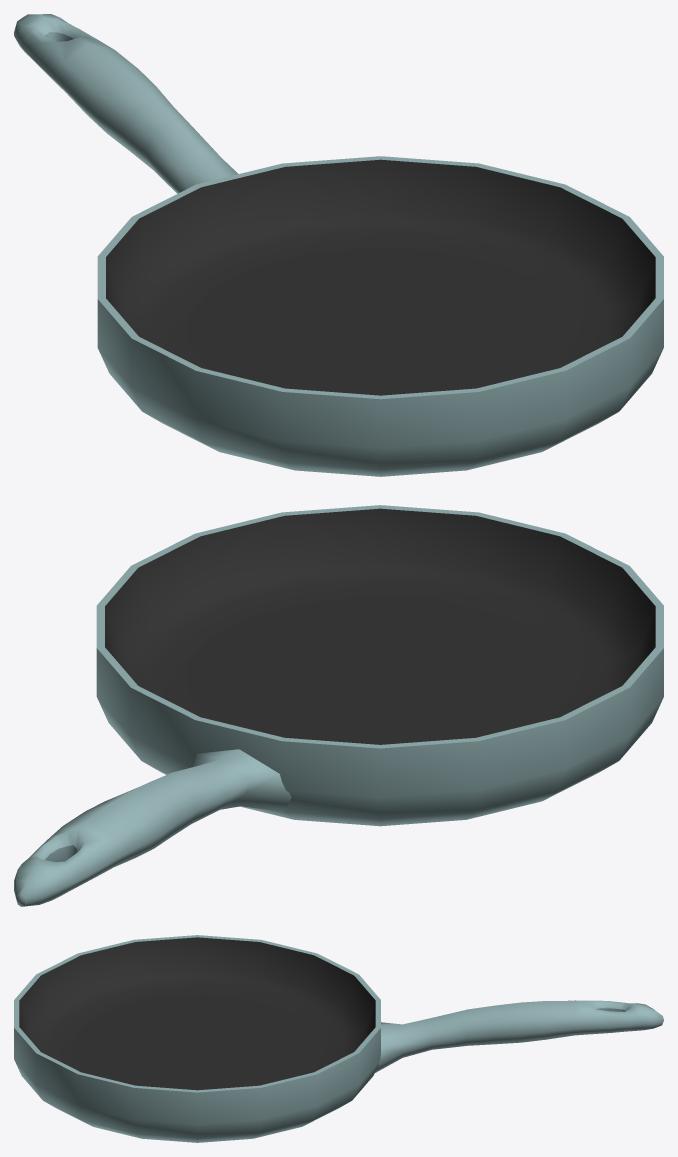
The model's file is frying-pan.FBX.
3 views of the same model, one above another, from view 1: azimuth 30°, elevation 25°; view 2: azimuth 150°, elevation 25°; view 3: azimuth 270°, elevation 25° (orthographic). The views are drawn at different scales.
Visible parts, largest first — view 1: Frying Pan, Frying Pan Handle; view 2: Frying Pan, Frying Pan Handle; view 3: Frying Pan, Frying Pan Handle.
Part boxes in pixels (box(x1,y1,x2,y2)): Frying Pan: box(97, 156, 663, 476); Frying Pan Handle: box(14, 14, 238, 193); Frying Pan: box(96, 505, 663, 826); Frying Pan Handle: box(14, 749, 291, 906); Frying Pan: box(14, 935, 380, 1142); Frying Pan Handle: box(375, 1000, 663, 1072).
Bounding box in the file's own units: 109 × 23.67 × 190.
